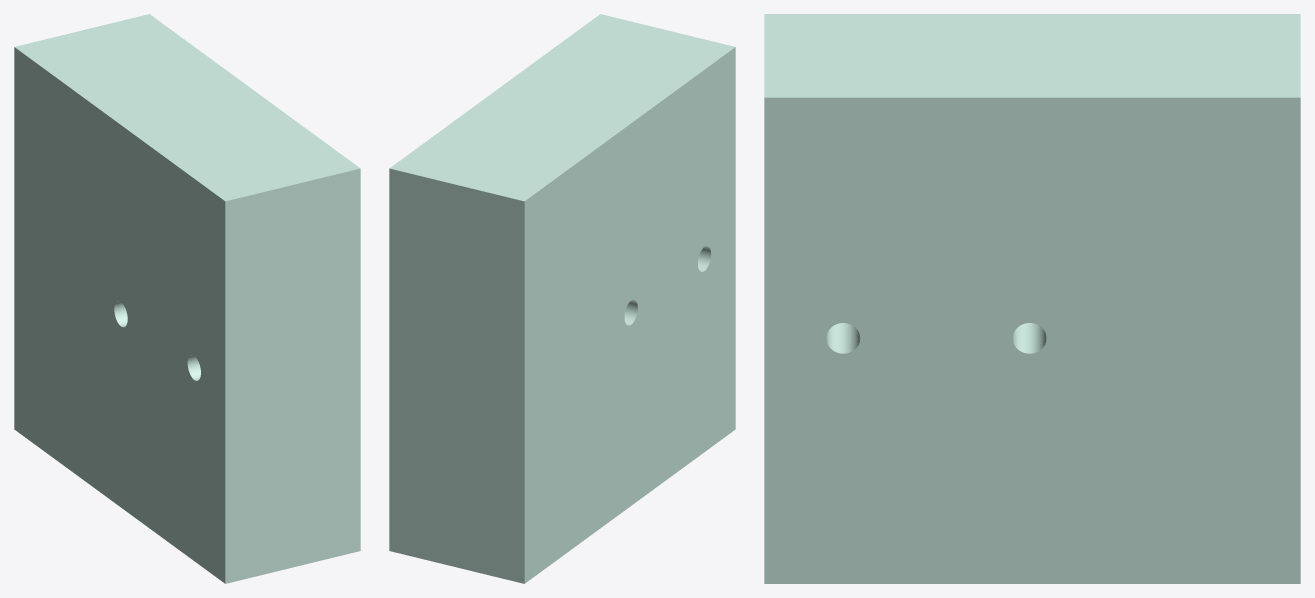
The picture shows the model from 3 angles, left to right: view 1: azimuth 30°, elevation 25°; view 2: azimuth 150°, elevation 25°; view 3: azimuth 270°, elevation 25°; orthographic projection. The views are drawn at different scales.
Visible parts, largest first — view 1: Renderer Node; view 2: Renderer Node; view 3: Renderer Node.
Boxes of the visible parts, box(x1,y1,x2,y2) form: Renderer Node: box(14, 14, 360, 583); Renderer Node: box(389, 14, 735, 583); Renderer Node: box(764, 14, 1300, 583).
Size of the model in its own units: 0.5547 by 1.5 by 1.5.
